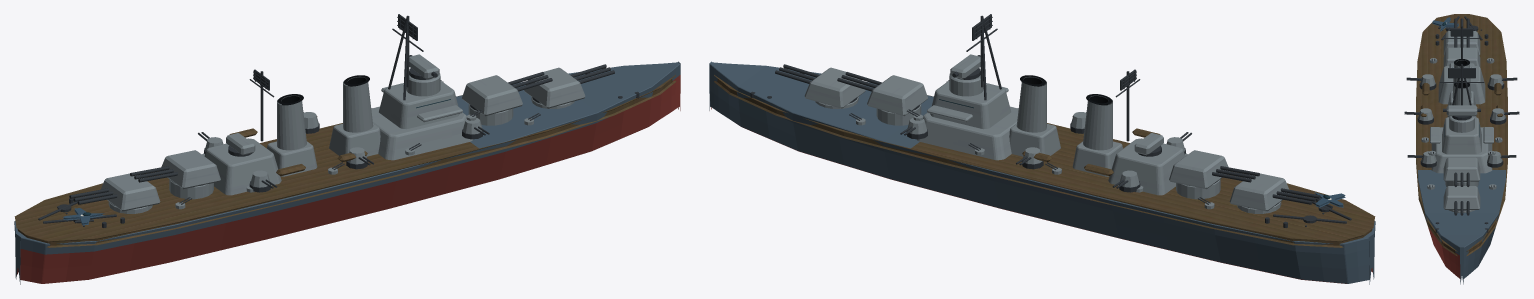
The model's file is cruiser-classic.glb.
The picture shows the model from 3 angles, left to right: view 1: azimuth 30°, elevation 25°; view 2: azimuth 150°, elevation 25°; view 3: azimuth 270°, elevation 25°; orthographic projection. The views are drawn at different scales.
Parts seen in each view (by area): view 1: Cleveland_Hull, Cleveland_Main_Deck, Cleveland_V3_Bridge_1, Cleveland_V3_Aft_Tower_1, Cleveland_V3_Bridge_2, Cruiser_Main_2_Housing, Cruiser_Main_3_Housing, Cruiser_Main_1_Housing, Cruiser_Main_4_Housing, Cleveland_V3_Funnel_1_Shell, Cleveland_V3_Funnel_2_Shell, Cleveland_V4_Funnel_Foundation_1 (+6 smaller); view 2: Cleveland_Hull, Cleveland_Main_Deck, Cleveland_V3_Bridge_1, Cleveland_V3_Aft_Tower_1, Cleveland_V3_Bridge_2, Cruiser_Main_2_Housing, Cruiser_Main_3_Housing, Cruiser_Main_1_Housing, Cruiser_Main_4_Housing, Cleveland_V3_Funnel_1_Shell, Cleveland_V3_Funnel_2_Shell, Cleveland_V4_Funnel_Foundation_1 (+6 smaller); view 3: Cleveland_Main_Deck, Cleveland_Hull, Cleveland_V3_Bridge_2, Cleveland_V3_Bridge_1, Cruiser_Main_2_Housing, Cleveland_V3_Aft_Tower_1, Cruiser_Main_1_Housing, Cruiser_Main_3_Housing, Cruiser_Main_4_Housing, Cleveland_V3_Conning_Tower, Cleveland_V3_Fore_Director, Cleveland_V3_Fore_Radar_Backing (+17 smaller).
Boxes of the visible parts, x1=… form: Cleveland_Hull: x1=14, y1=61, x2=680, y2=284; Cleveland_Main_Deck: x1=14, y1=75, x2=675, y2=247; Cleveland_V3_Bridge_1: x1=371, y1=106, x2=472, y2=160; Cleveland_V3_Aft_Tower_1: x1=204, y1=138, x2=281, y2=195; Cleveland_V3_Bridge_2: x1=379, y1=81, x2=459, y2=129; Cruiser_Main_2_Housing: x1=461, y1=75, x2=522, y2=116; Cruiser_Main_3_Housing: x1=160, y1=150, x2=220, y2=189; Cruiser_Main_1_Housing: x1=524, y1=67, x2=585, y2=108; Cruiser_Main_4_Housing: x1=100, y1=173, x2=160, y2=211; Cleveland_V3_Funnel_1_Shell: x1=343, y1=76, x2=373, y2=132; Cleveland_V3_Funnel_2_Shell: x1=277, y1=95, x2=306, y2=150; Cleveland_V4_Funnel_Foundation_1: x1=329, y1=123, x2=380, y2=156; Cleveland_Hull: x1=709, y1=61, x2=1375, y2=284; Cleveland_Main_Deck: x1=714, y1=75, x2=1375, y2=247; Cleveland_V3_Bridge_1: x1=917, y1=106, x2=1018, y2=160; Cleveland_V3_Aft_Tower_1: x1=1108, y1=138, x2=1185, y2=195; Cleveland_V3_Bridge_2: x1=930, y1=81, x2=1010, y2=129; Cruiser_Main_2_Housing: x1=867, y1=75, x2=928, y2=116; Cruiser_Main_3_Housing: x1=1169, y1=150, x2=1229, y2=189; Cruiser_Main_1_Housing: x1=804, y1=67, x2=865, y2=108; Cruiser_Main_4_Housing: x1=1229, y1=173, x2=1289, y2=211; Cleveland_V3_Funnel_1_Shell: x1=1016, y1=76, x2=1046, y2=132; Cleveland_V3_Funnel_2_Shell: x1=1083, y1=95, x2=1112, y2=150; Cleveland_V4_Funnel_Foundation_1: x1=1009, y1=123, x2=1060, y2=156; Cleveland_Main_Deck: x1=1416, y1=14, x2=1507, y2=256; Cleveland_Hull: x1=1418, y1=170, x2=1505, y2=284; Cleveland_V3_Bridge_2: x1=1442, y1=117, x2=1481, y2=154; Cleveland_V3_Bridge_1: x1=1431, y1=127, x2=1492, y2=173; Cruiser_Main_2_Housing: x1=1443, y1=157, x2=1480, y2=181; Cleveland_V3_Aft_Tower_1: x1=1438, y1=66, x2=1485, y2=104; Cruiser_Main_1_Housing: x1=1443, y1=186, x2=1480, y2=209; Cruiser_Main_3_Housing: x1=1443, y1=47, x2=1480, y2=66; Cruiser_Main_4_Housing: x1=1443, y1=31, x2=1480, y2=54; Cleveland_V3_Conning_Tower: x1=1449, y1=116, x2=1474, y2=132; Cleveland_V3_Fore_Director: x1=1446, y1=105, x2=1477, y2=116; Cleveland_V3_Fore_Radar_Backing: x1=1448, y1=68, x2=1475, y2=78.
Bounding box in the file's own units: 36 × 9.16 × 7.26.
Materials: 9 (2 with a texture image).
